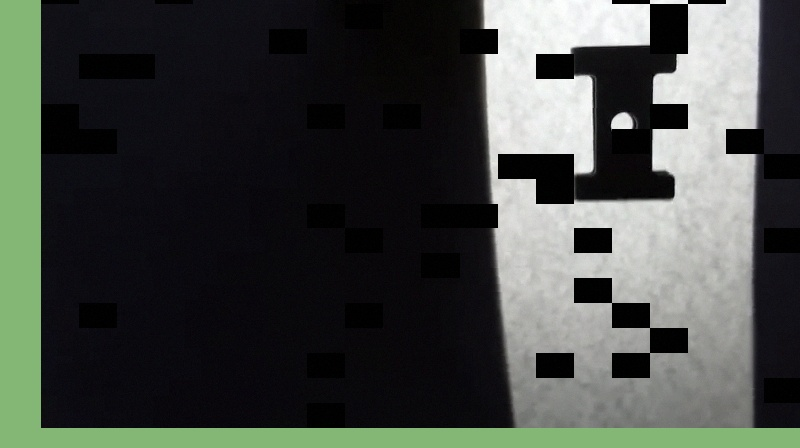O002: (563, 35, 682, 207)
